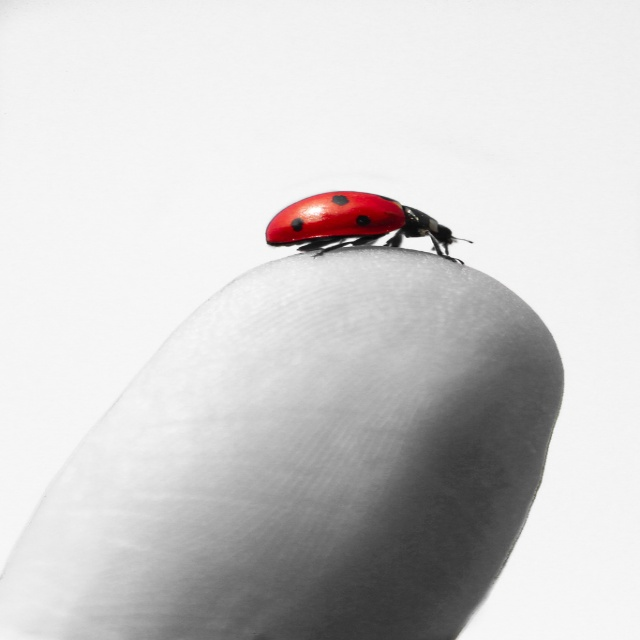Ladybug: (261, 189, 476, 266)
